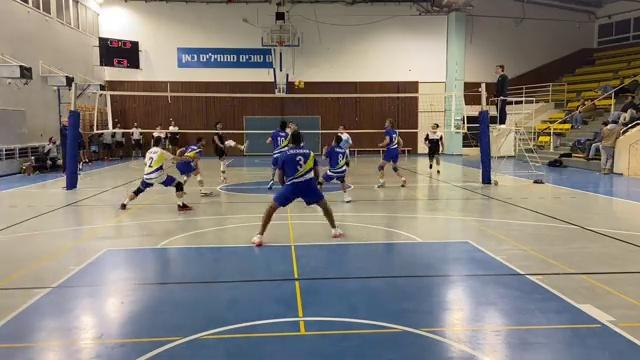ball: (291, 77, 307, 92)
